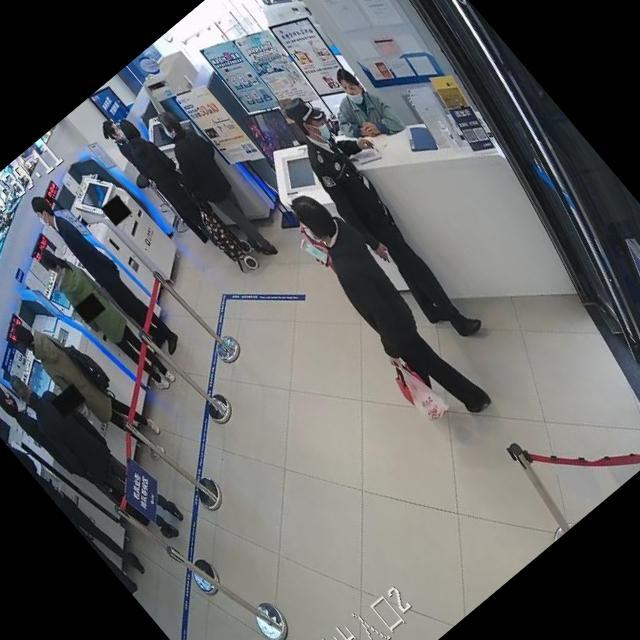person: (262, 77, 510, 353), (270, 180, 498, 436), (1, 348, 191, 558), (23, 180, 185, 364), (9, 296, 170, 474), (0, 415, 151, 590), (142, 102, 293, 270), (0, 368, 142, 544), (31, 235, 180, 402), (2, 422, 147, 588), (108, 111, 235, 254), (306, 57, 408, 162), (98, 116, 154, 176)
